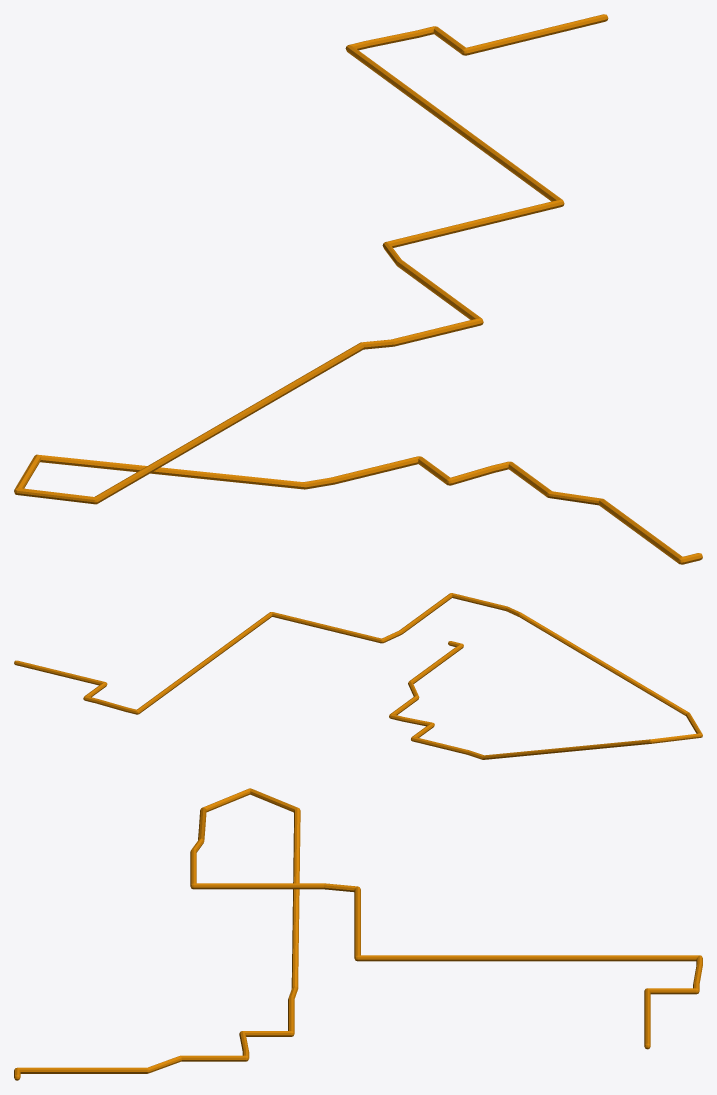
3 views of the same model, one above another, from view 1: azimuth 30°, elevation 25°; view 2: azimuth 150°, elevation 25°; view 3: azimuth 270°, elevation 25° (orthographic). The views are drawn at different scales.
Size of the model in its own units: 2409 by 520 by 2115.
